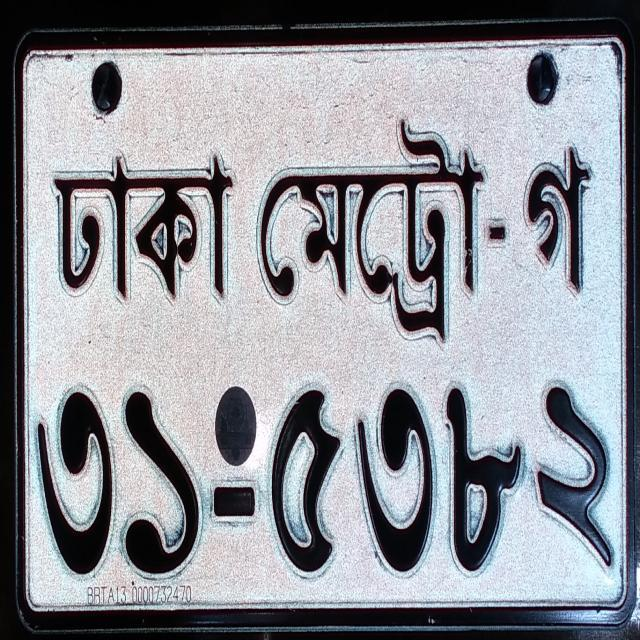numberplate: (10, 17, 635, 632)
